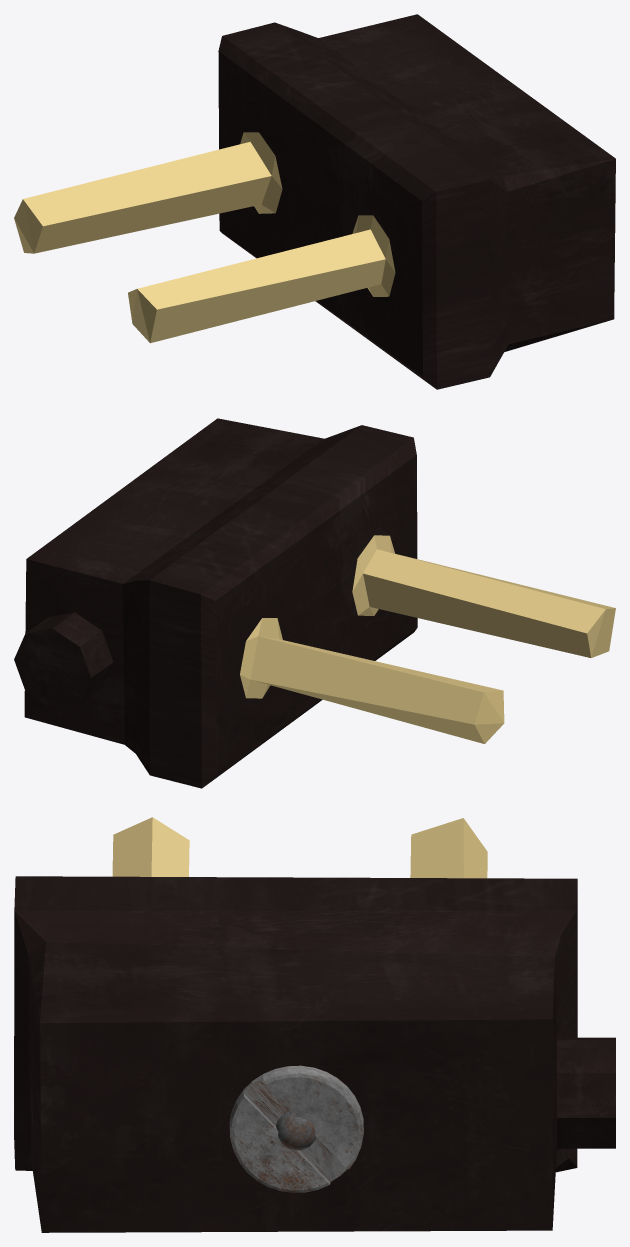
File: PlugBoardPlug1.fbx
3 views of the same model, one above another, from view 1: azimuth 30°, elevation 25°; view 2: azimuth 150°, elevation 25°; view 3: azimuth 270°, elevation 25° (orthographic). The views are drawn at different scales.
Visible parts, largest first — view 1: PlugBoardPlug; view 2: PlugBoardPlug; view 3: PlugBoardPlug.
Boxes of the visible parts, x1,y1,x2,y2 form: PlugBoardPlug: [14, 14, 615, 389]; PlugBoardPlug: [14, 418, 615, 788]; PlugBoardPlug: [14, 817, 615, 1232].
Bounding box in the file's own units: 300 × 125 × 263.
